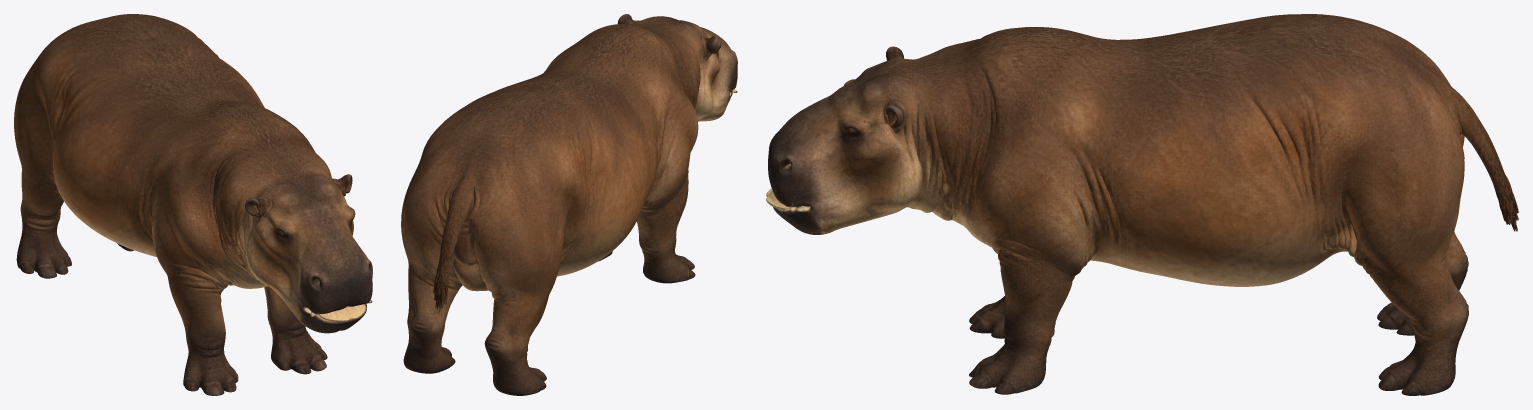
3 views of the same model, side by side, from view 1: azimuth 30°, elevation 25°; view 2: azimuth 150°, elevation 25°; view 3: azimuth 270°, elevation 25° (orthographic). The views are drawn at different scales.
Parts seen in each view (by area): view 1: Authored orientation; view 2: Authored orientation; view 3: Authored orientation.
Boxes of the visible parts, <box> form: Authored orientation: <box>14,14,372,395</box>; Authored orientation: <box>401,14,737,395</box>; Authored orientation: <box>766,14,1518,395</box>.
Bounding box in the file's own units: 1.13 × 1.44 × 3.
Materials: 1 (1 with a texture image).
